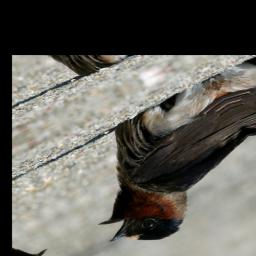Swallow: (48, 76, 256, 256)
